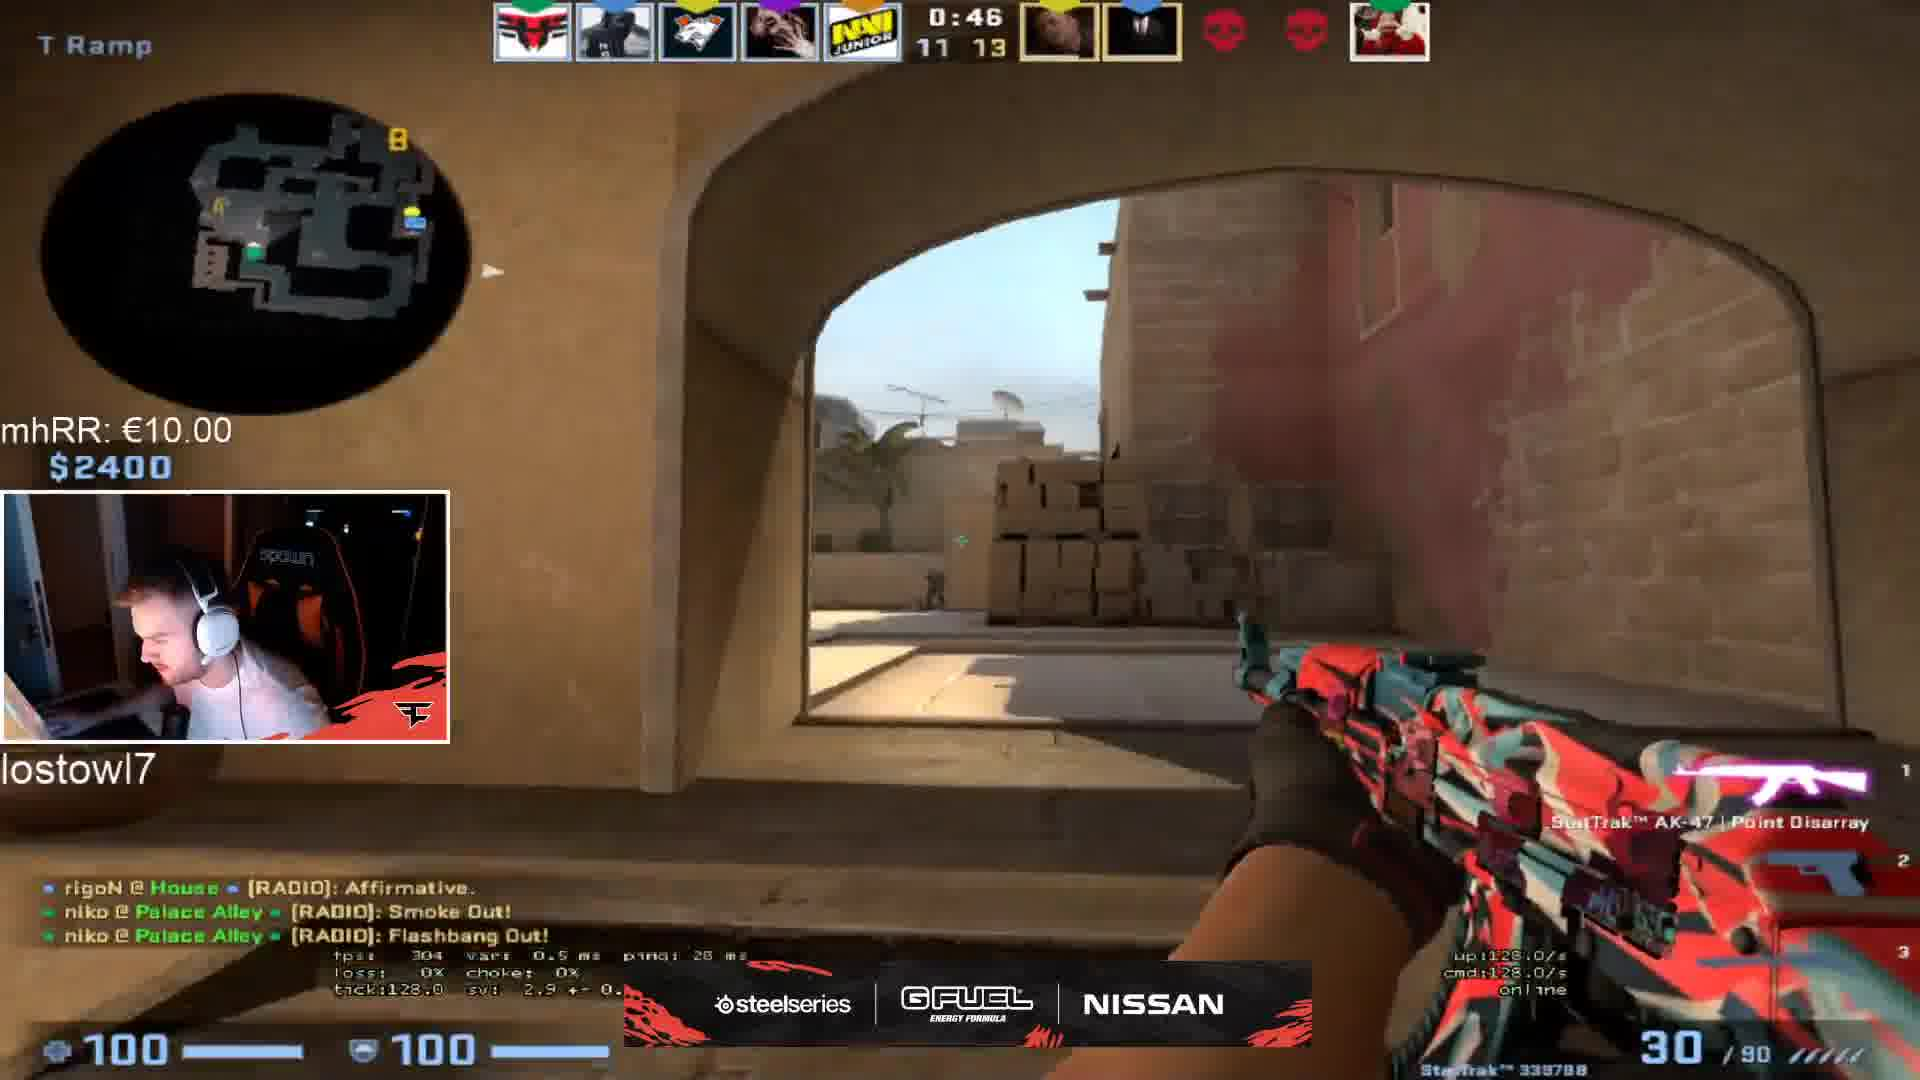enemy: (918, 562, 949, 615)
